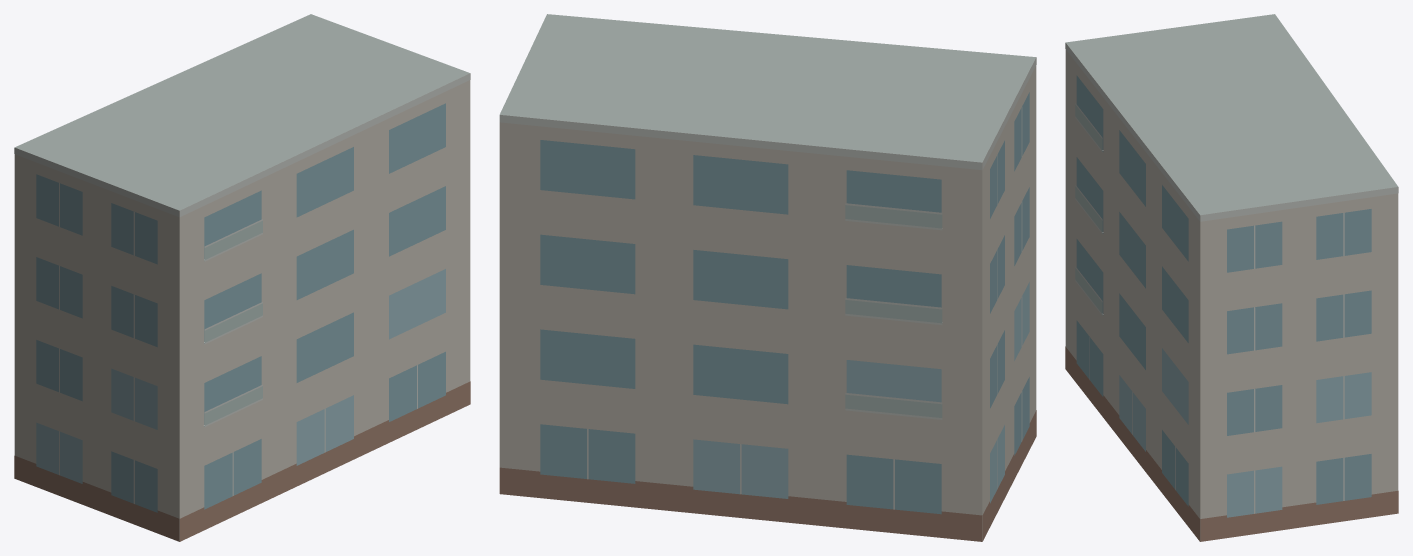
File: survey-upis-32612693.glb
3 views of the same model, side by side, from view 1: azimuth 30°, elevation 25°; view 2: azimuth 150°, elevation 25°; view 3: azimuth 270°, elevation 25° (orthographic). The views are drawn at different scales.
Parts seen in each view (by area): view 1: survey-upis-32612693.tmp; view 2: survey-upis-32612693.tmp; view 3: survey-upis-32612693.tmp.
Part boxes in pixels (x1,y1,x2,y2): survey-upis-32612693.tmp: [14, 14, 470, 541]; survey-upis-32612693.tmp: [499, 14, 1036, 541]; survey-upis-32612693.tmp: [1065, 14, 1398, 541].
Size of the model in its own units: 16.13 by 12.2 by 11.28.
